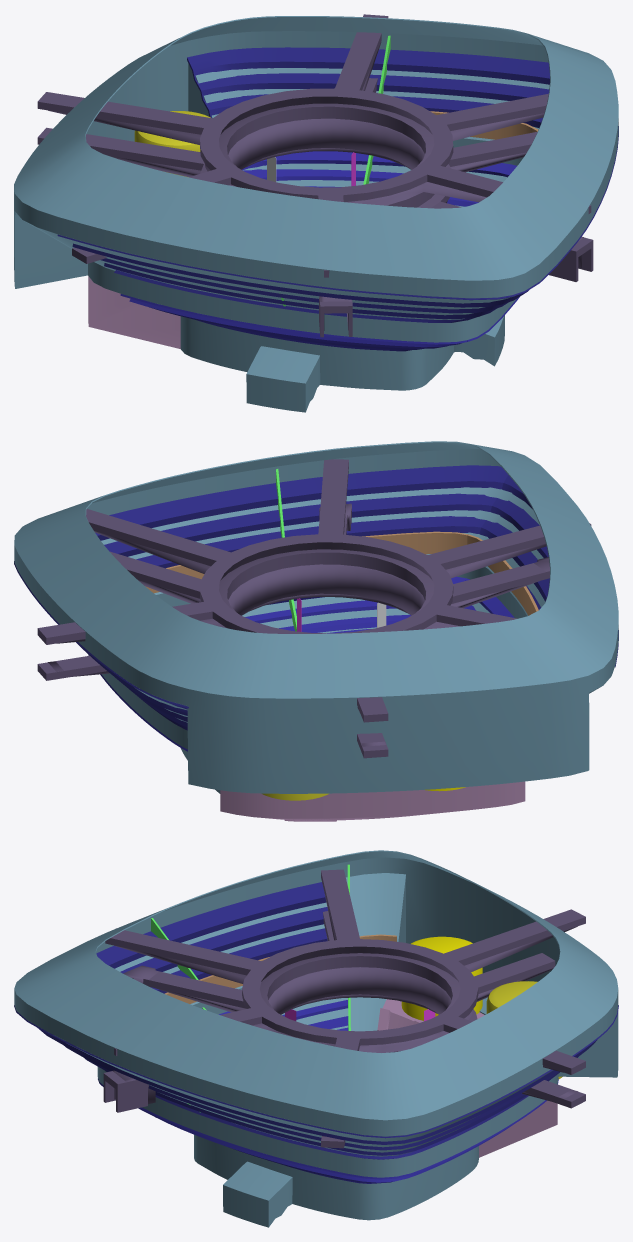
The model's file is 棒球場 02.fbx.
The picture shows the model from 3 angles, top to bottom: view 1: azimuth 30°, elevation 25°; view 2: azimuth 150°, elevation 25°; view 3: azimuth 270°, elevation 25°; orthographic projection. The views are drawn at different scales.
Visible parts, largest first — view 1: 螢幕; view 2: 螢幕; view 3: 螢幕.
Part boxes in pixels (x1,y1,x2,y2): 螢幕: [14, 14, 618, 412]; 螢幕: [14, 441, 618, 821]; 螢幕: [14, 850, 618, 1227].
Size of the model in its own units: 29991 by 11533 by 29072.
